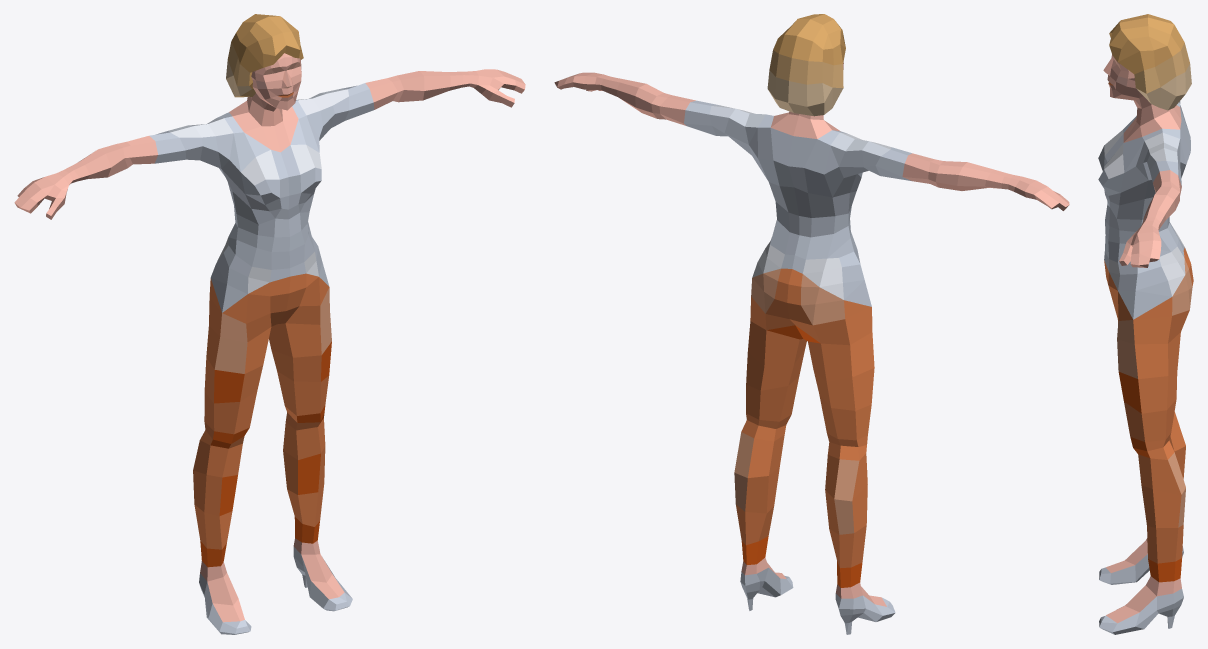
Rendered from Amira.fbx.
The picture shows the model from 3 angles, left to right: view 1: azimuth 30°, elevation 25°; view 2: azimuth 150°, elevation 25°; view 3: azimuth 270°, elevation 25°; orthographic projection.
Visible parts, largest first — view 1: casual_Female_G; view 2: casual_Female_G; view 3: casual_Female_G.
Boxes of the visible parts, bbox=[...] form: casual_Female_G: bbox=[14, 14, 525, 634]; casual_Female_G: bbox=[554, 14, 1069, 634]; casual_Female_G: bbox=[1098, 14, 1193, 634].
Bounding box in the file's own units: 155 × 172 × 25.34.
Materials: 1 (1 with a texture image).
